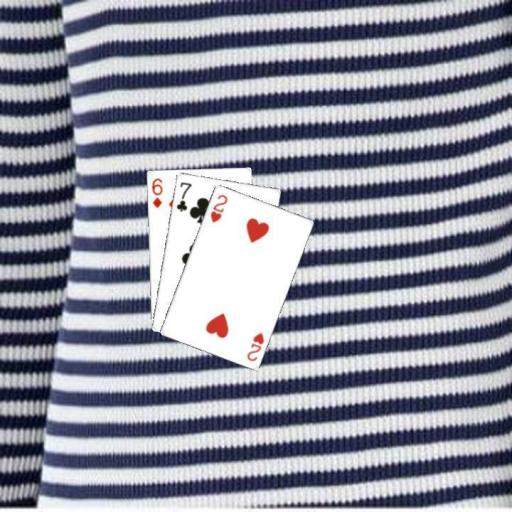card-corner: (243, 329, 265, 363), (207, 191, 229, 224), (174, 178, 192, 212), (148, 175, 164, 209)
